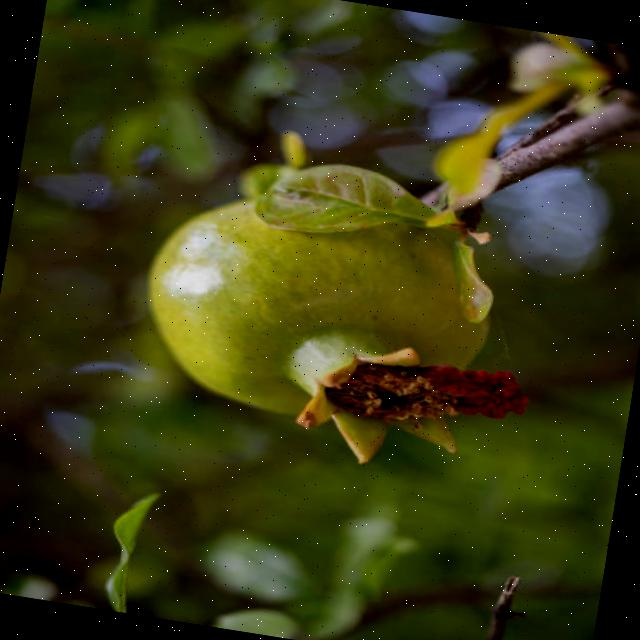Unripe: (118, 152, 511, 478)
